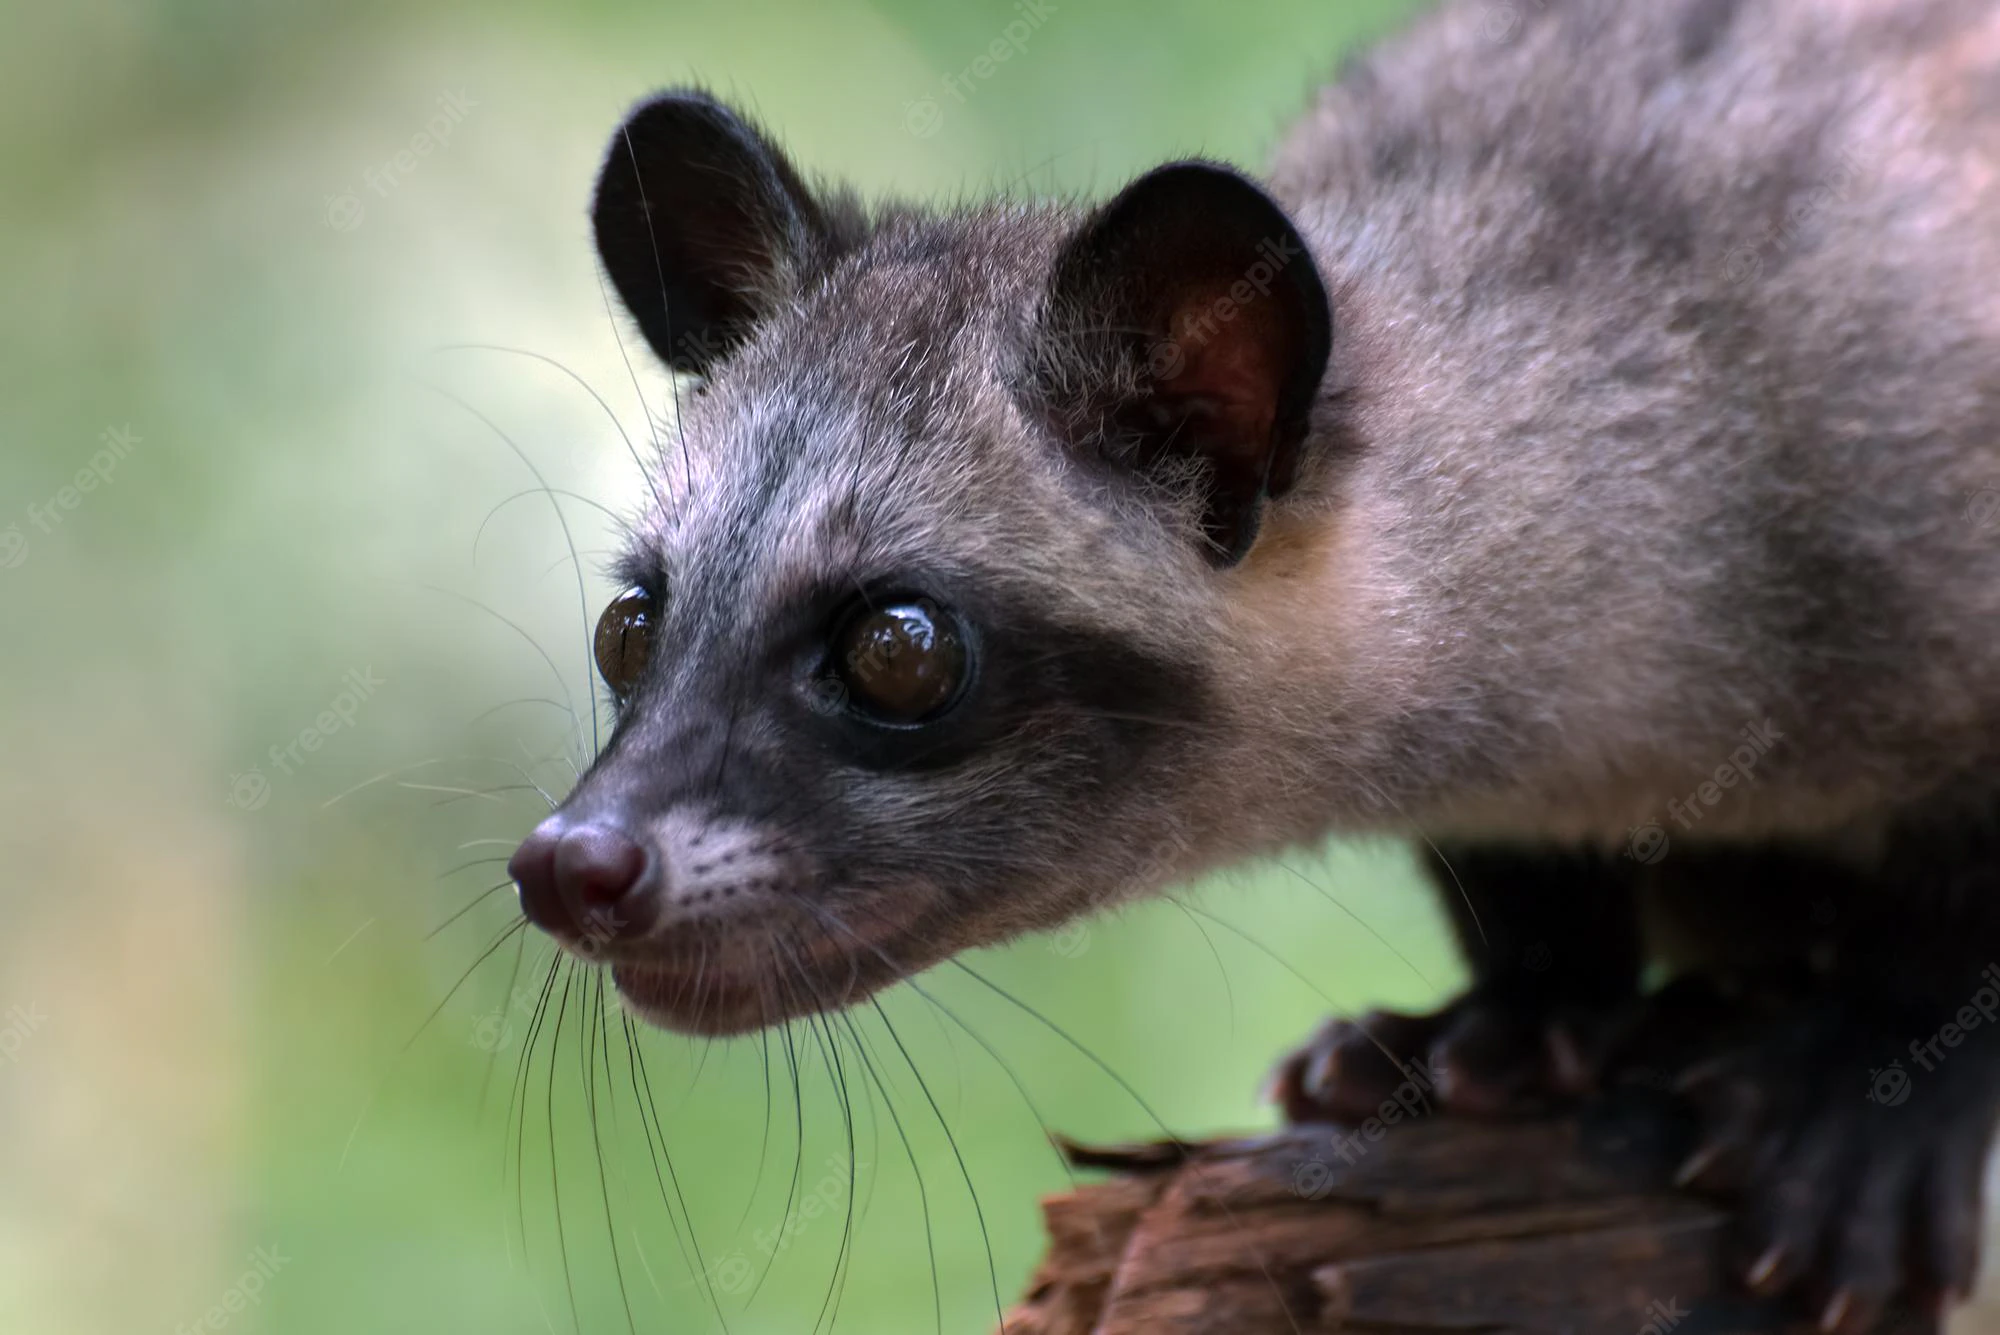Civet: (450, 1, 2000, 1073)
